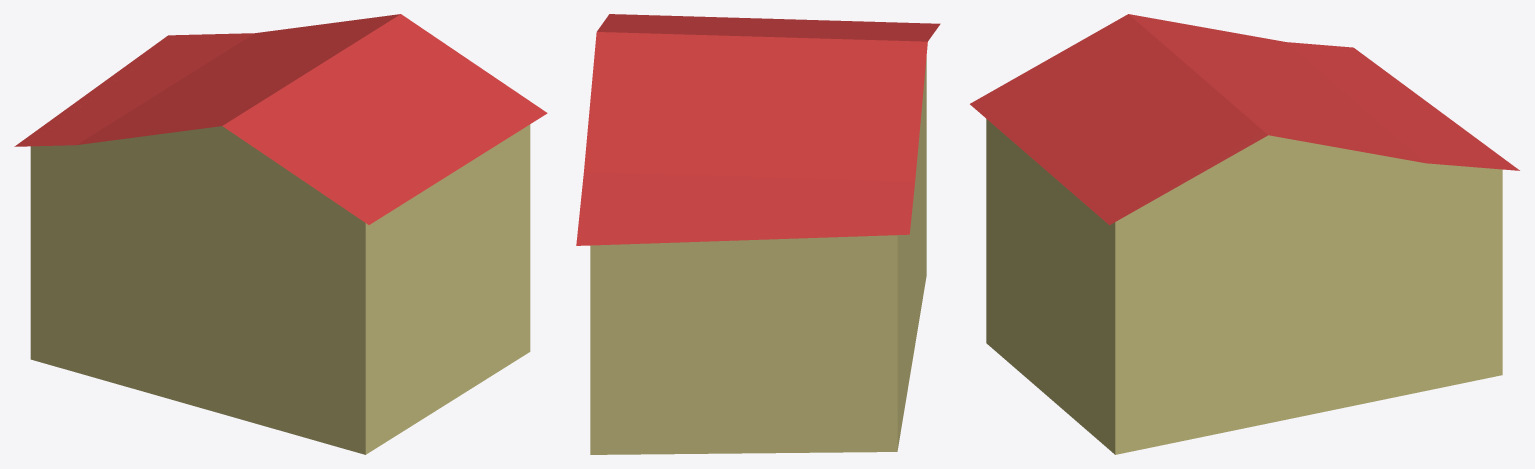
3 views of the same model, side by side, from view 1: azimuth 30°, elevation 25°; view 2: azimuth 150°, elevation 25°; view 3: azimuth 270°, elevation 25° (orthographic). The views are drawn at different scales.
Size of the model in its own units: 9.41 by 10.93 by 6.43.
